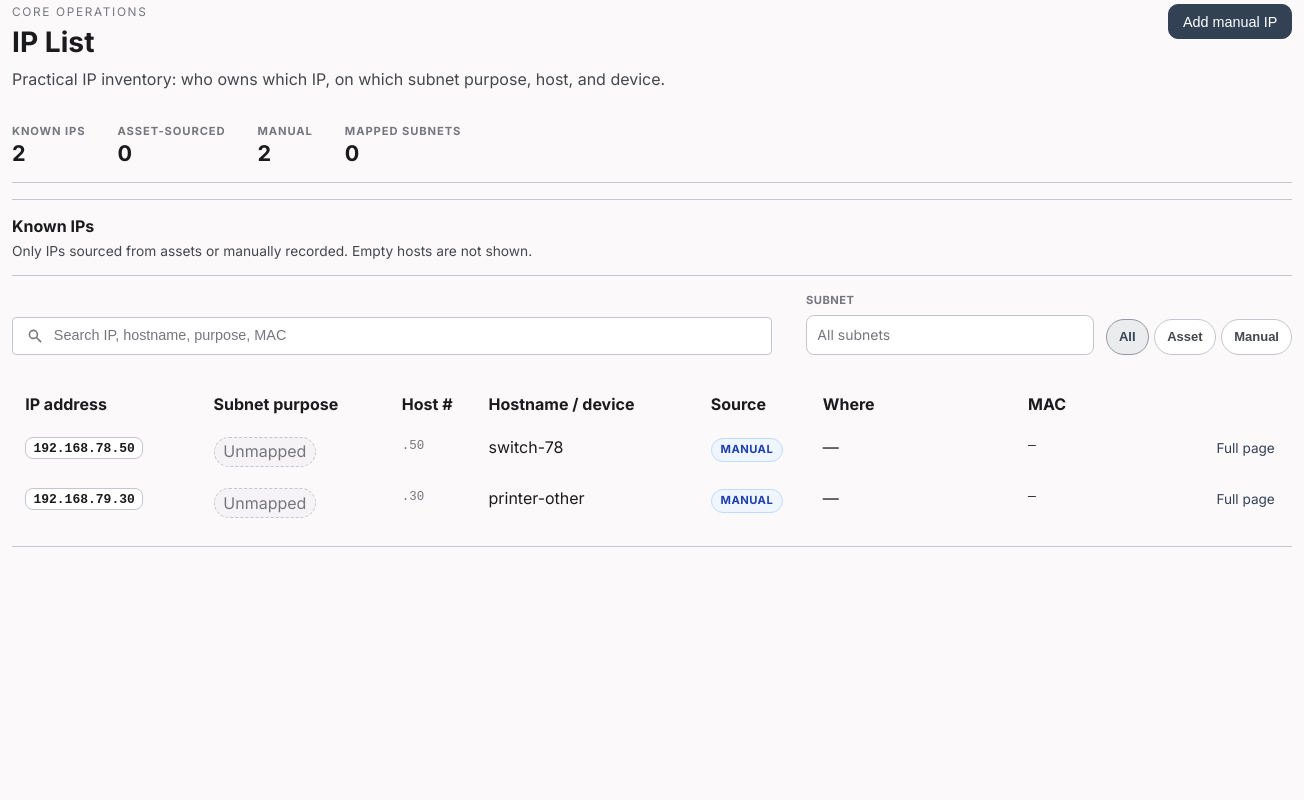
it: IpListPage › typing 78 in subnet combobox filters to detected /24 prefix client-side
Expected: the button "192.168.78.50" is shown, [25,437,143,459]
Type "78" into the dropdown labelled "Subnet" at (950, 335), box [806,315,1094,355]
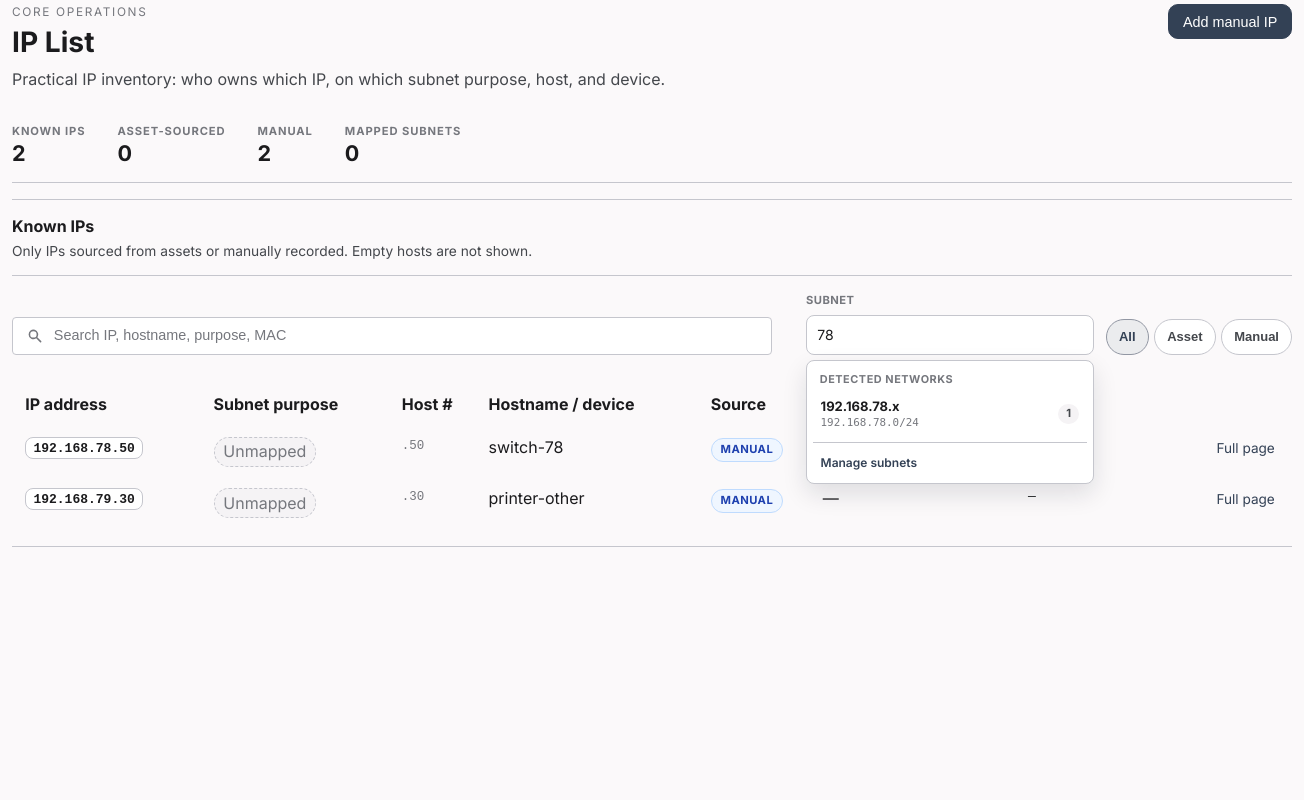
Click the option "192.168.78.x 192.168.78.0/24 1" at (860, 406), box [813,391,1087,436]
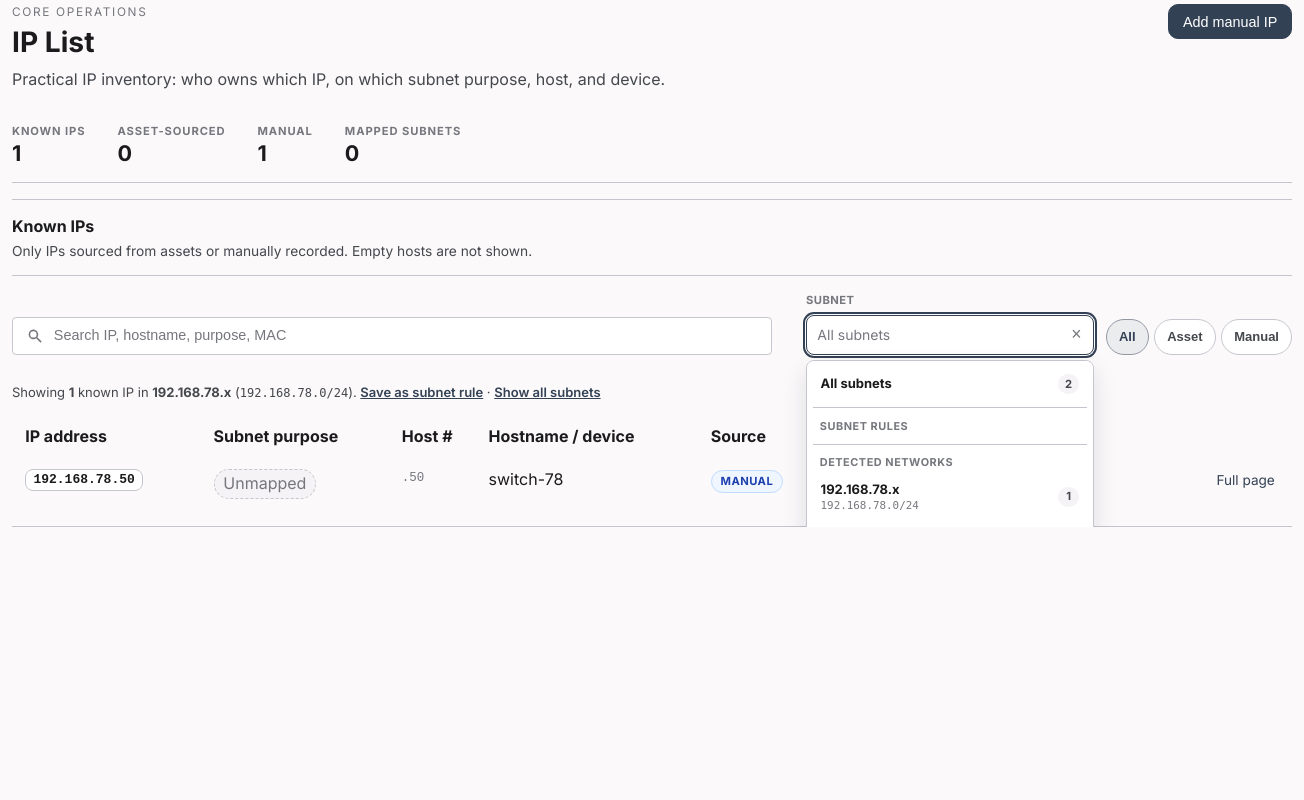
Expected: the button "192.168.78.50" is shown, [25,469,143,490]
Expected: the button "192.168.79.30" is gone
